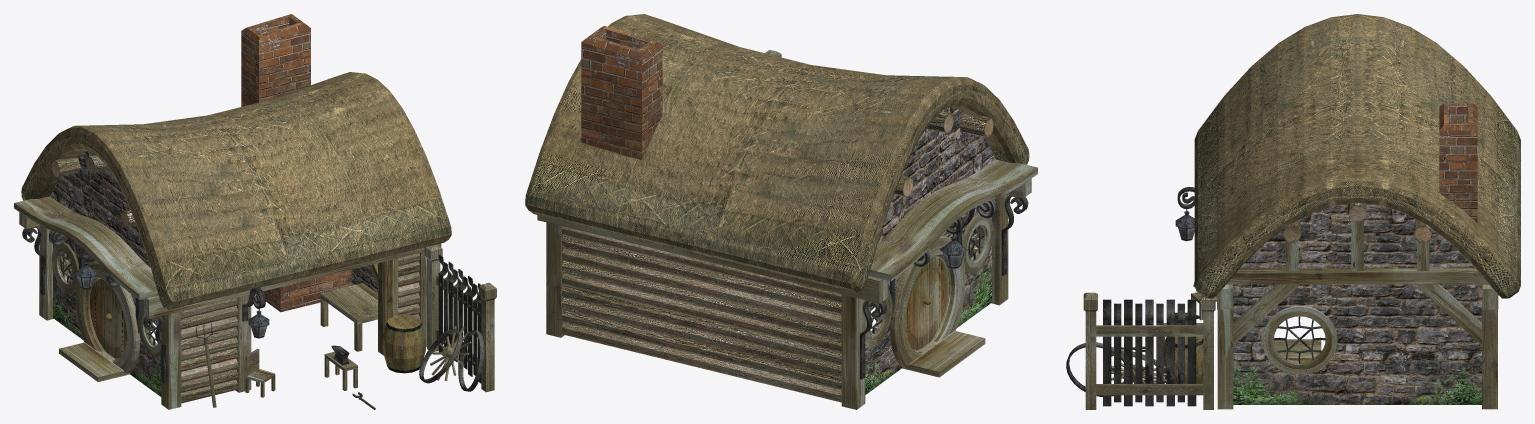
The model's file is Cabaña_2.glb.
The picture shows the model from 3 angles, left to right: view 1: azimuth 30°, elevation 25°; view 2: azimuth 150°, elevation 25°; view 3: azimuth 270°, elevation 25°; orthographic projection. The views are drawn at different scales.
Parts seen in each view (by area): view 1: black_smith:Object_Blksmith_jpg; view 2: black_smith:Object_Blksmith_jpg; view 3: black_smith:Object_Blksmith_jpg.
Boxes of the visible parts, x1,y1,x2,y2 form: black_smith:Object_Blksmith_jpg: (14,14,496,409); black_smith:Object_Blksmith_jpg: (525,14,1037,409); black_smith:Object_Blksmith_jpg: (1066,14,1520,409).
Size of the model in its own units: 2.09 by 1.65 by 2.5.
Materials: 1 (1 with a texture image).
